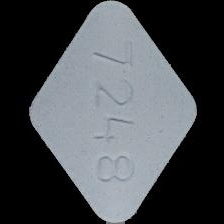0615-7547: (0, 0, 224, 224)
